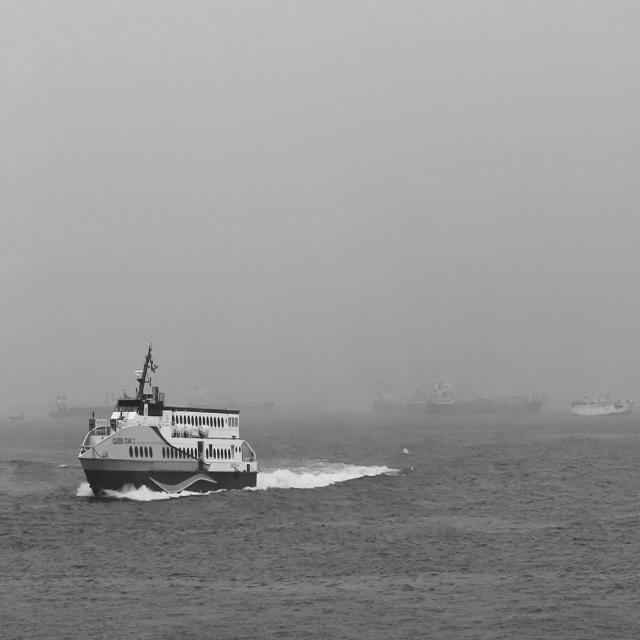ship: (79, 343, 259, 504), (432, 378, 546, 417), (188, 387, 278, 408), (570, 390, 636, 418), (49, 396, 116, 422), (368, 385, 413, 417), (414, 392, 430, 416), (7, 409, 26, 423)
